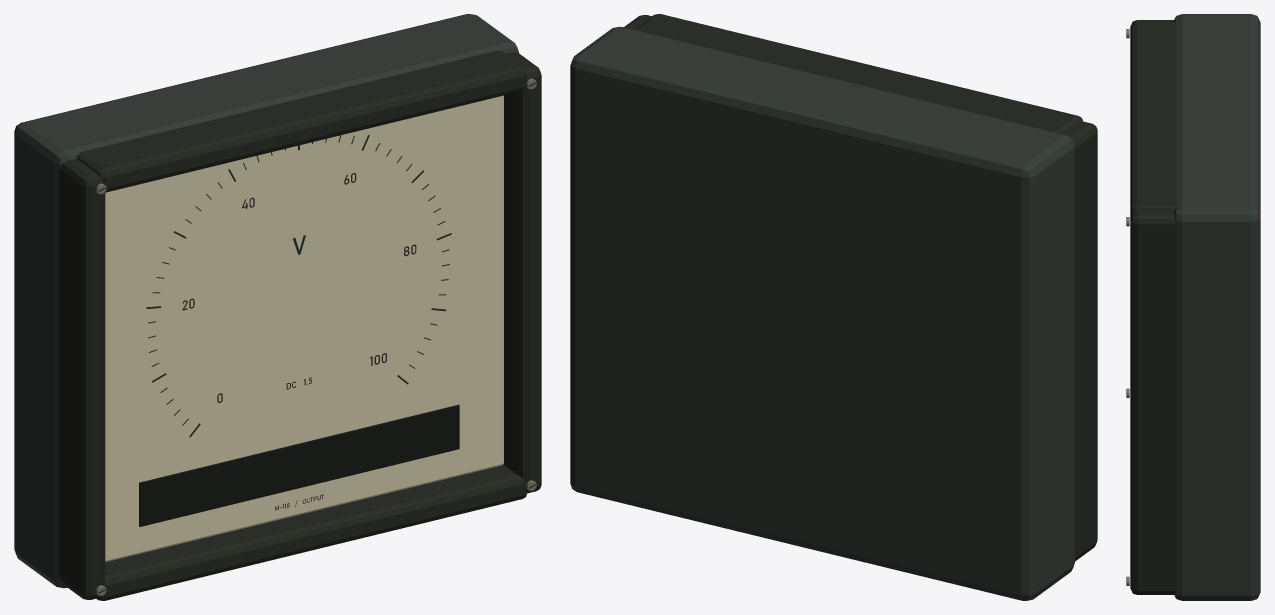
The model's file is Gauge_Housing.fbx.
3 renders of one model, left to right at view 1: azimuth 30°, elevation 25°; view 2: azimuth 150°, elevation 25°; view 3: azimuth 270°, elevation 25°, orthographic. The views are drawn at different scales.
Visible parts, largest first — view 1: Gauge_Housing_EXPORT; view 2: Gauge_Housing_EXPORT; view 3: Gauge_Housing_EXPORT.
Part boxes in pixels (x1,y1,x2,y2): Gauge_Housing_EXPORT: (14,14,541,600); Gauge_Housing_EXPORT: (570,14,1097,600); Gauge_Housing_EXPORT: (1126,14,1260,600).
Bounding box in the file's own units: 0.6 × 0.54 × 0.1683.
